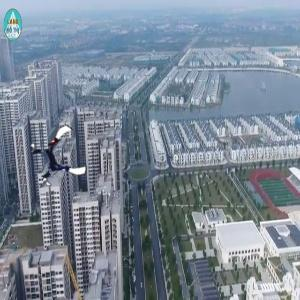drone: (32, 129, 87, 184)
